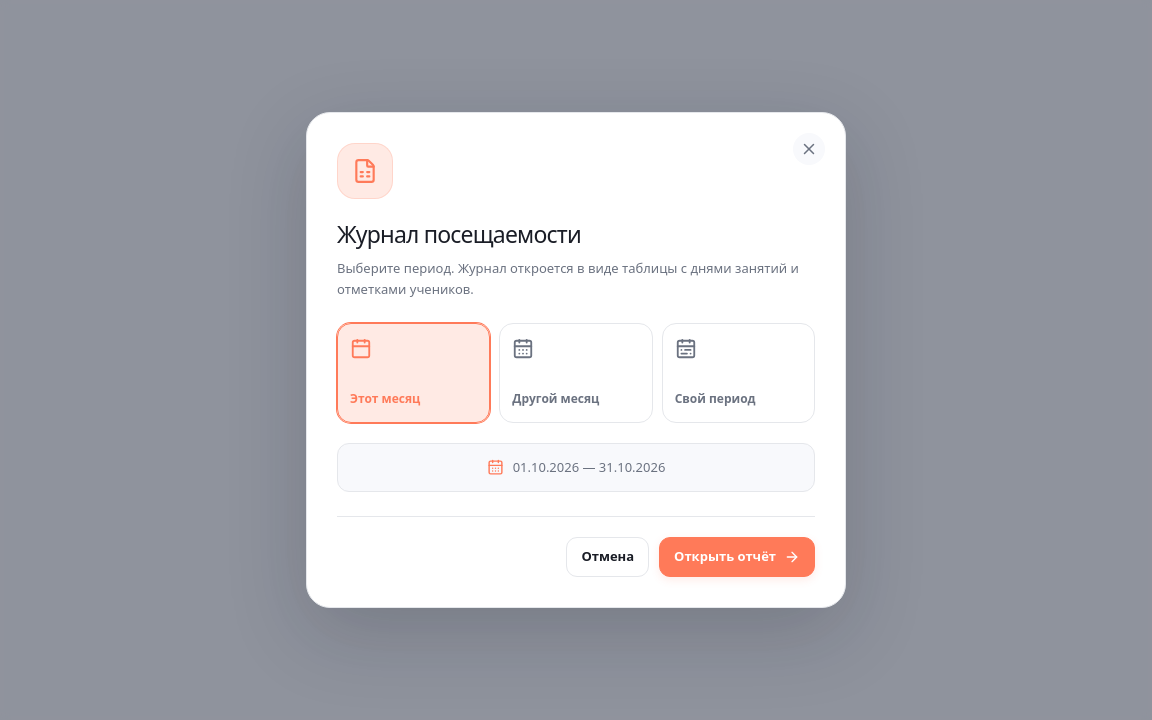
validates a custom period before starting preparation
Step 1. Click the button "Свой период" → coordinates (738, 373), box [662,323,815,423]
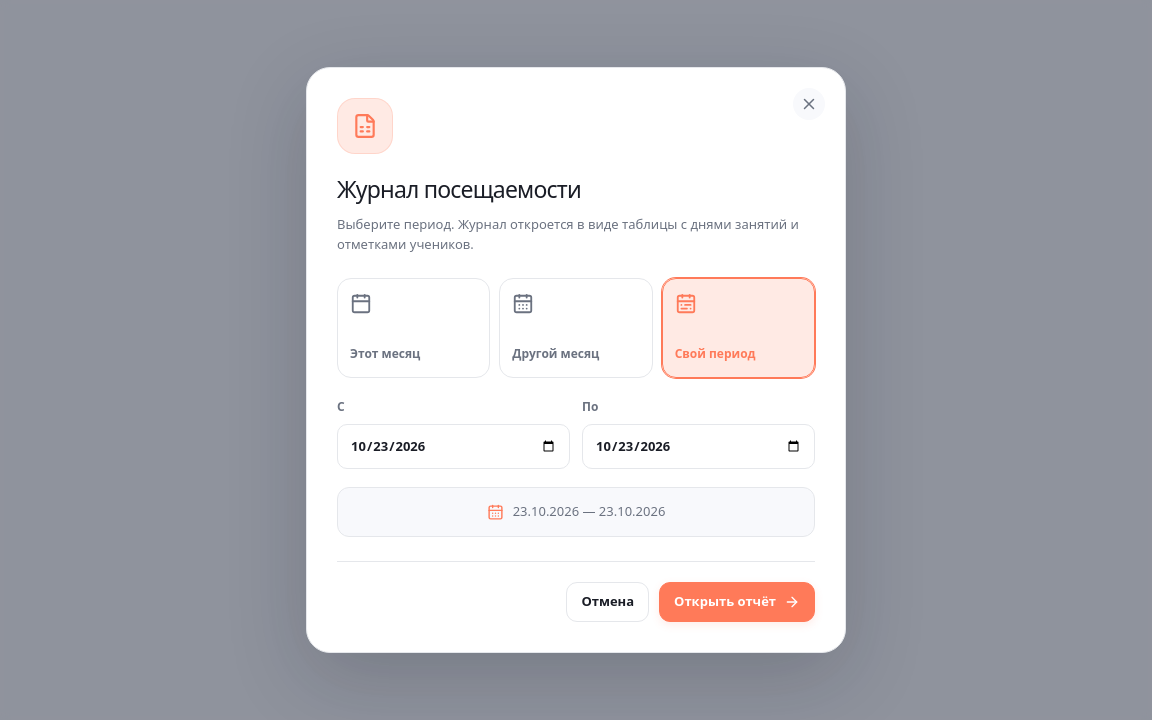
Step 2. Type "2026-10-20" into the date field labelled "С" → coordinates (454, 447), box [337,424,570,469]
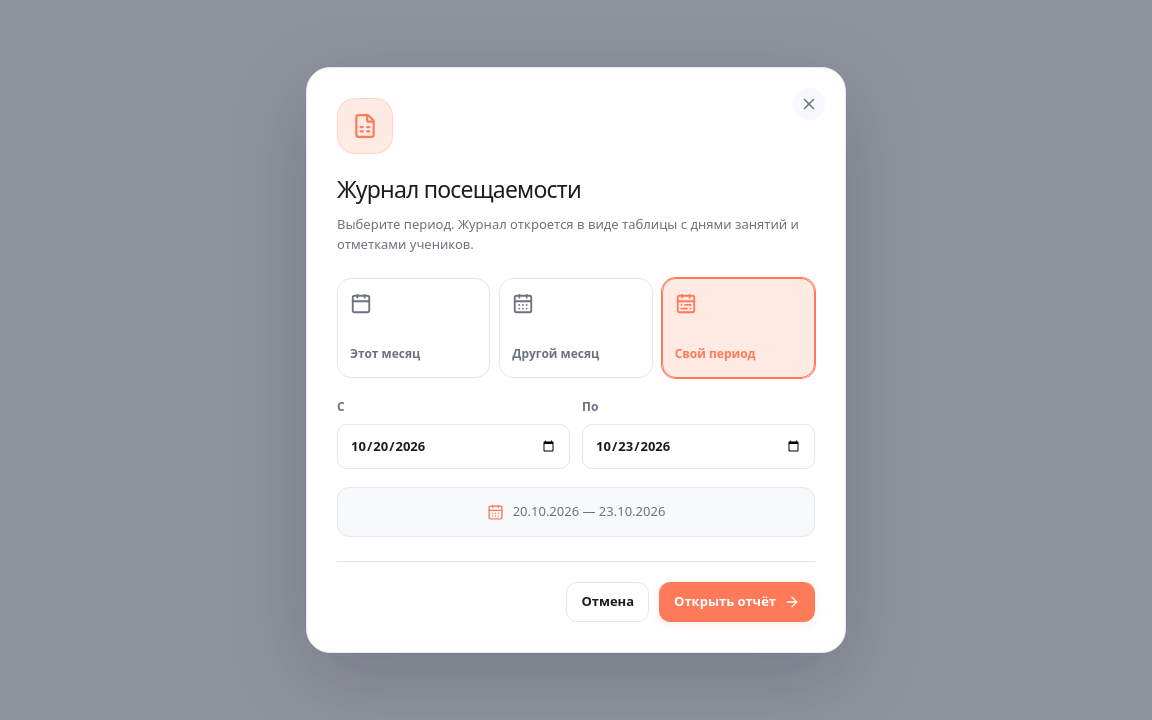
Step 3. Type "2026-10-01" into the date field labelled "По" → coordinates (698, 447), box [582,424,815,469]
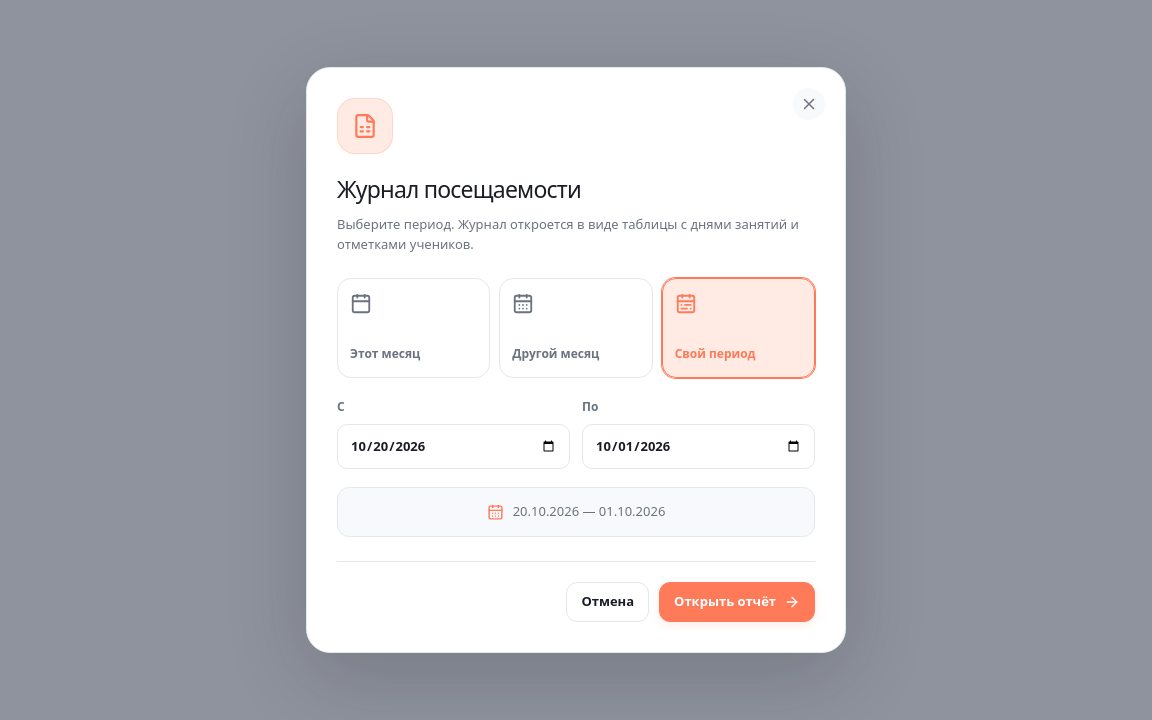
Step 4. Click the button "Открыть отчёт" → coordinates (737, 602), box [659,582,815,622]
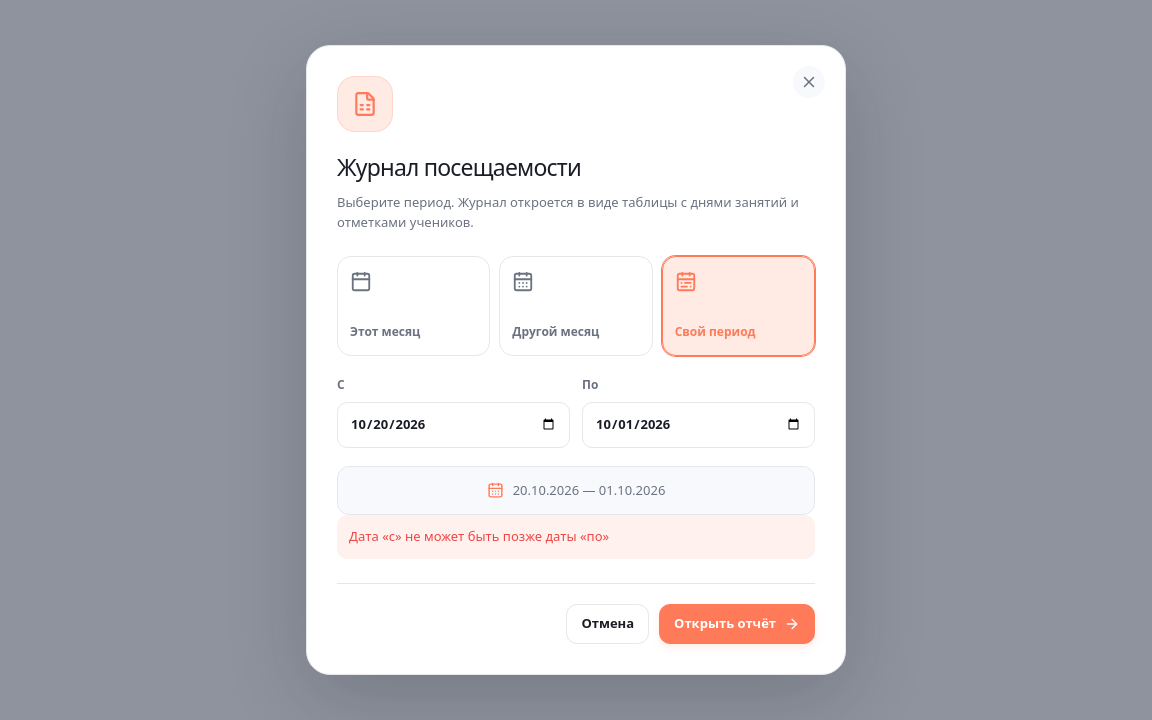
Expected: the message shows "не может быть позже", [349,527,609,545]
